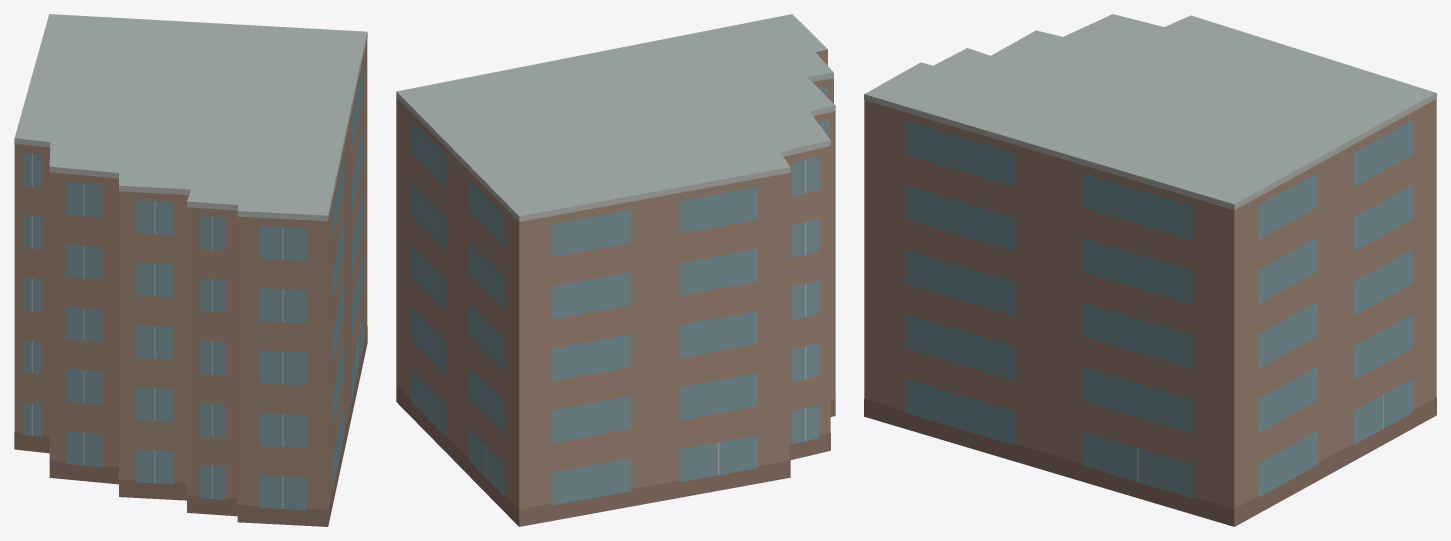
Rendered from survey-upis-32889066.glb.
3 views of the same model, side by side, from view 1: azimuth 30°, elevation 25°; view 2: azimuth 150°, elevation 25°; view 3: azimuth 270°, elevation 25° (orthographic). The views are drawn at different scales.
Parts seen in each view (by area): view 1: survey-upis-32889066.tmp; view 2: survey-upis-32889066.tmp; view 3: survey-upis-32889066.tmp.
Boxes of the visible parts, box(x1,y1,x2,y2) form: survey-upis-32889066.tmp: box(14, 14, 367, 526); survey-upis-32889066.tmp: box(396, 14, 835, 526); survey-upis-32889066.tmp: box(864, 14, 1436, 526).
Size of the model in its own units: 17.11 by 13.5 by 21.73.
